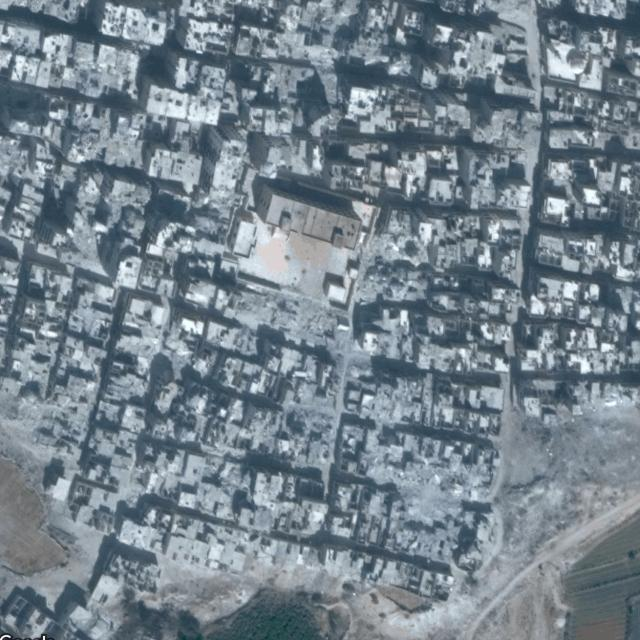damaged_building: (370, 456, 498, 568), (0, 376, 97, 480), (232, 283, 347, 345), (240, 401, 336, 462), (356, 233, 432, 300)
